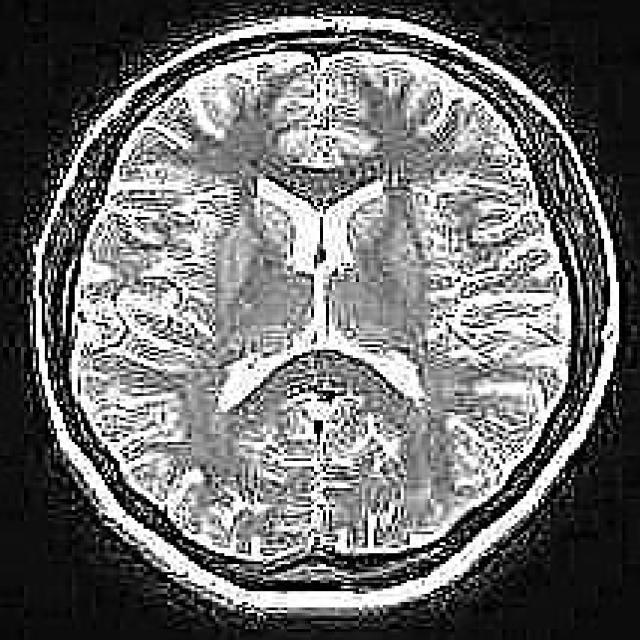notumor: (30, 16, 619, 626)
